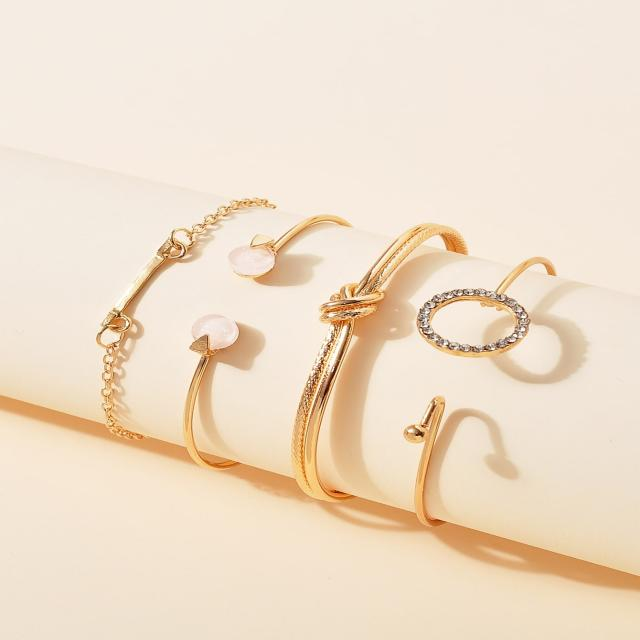bracelet: (35, 61, 640, 559)
